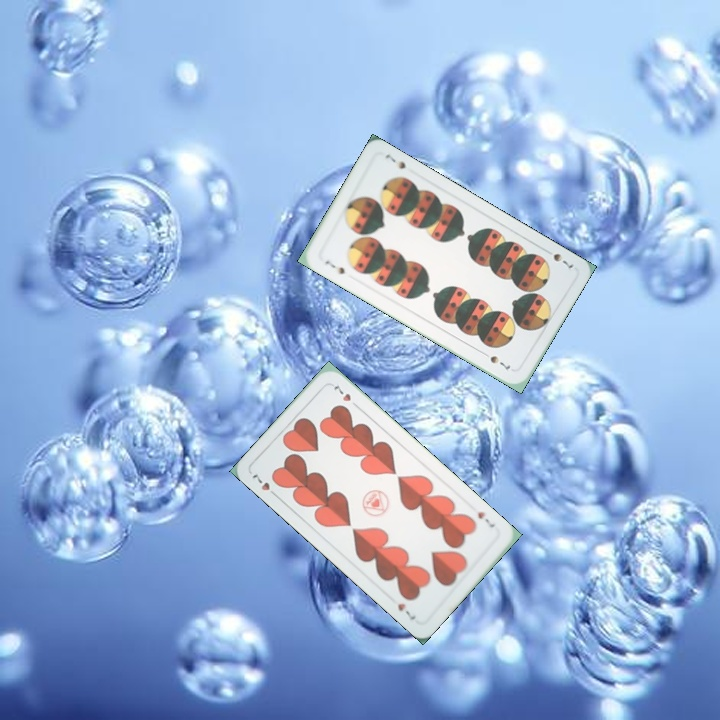H7: (248, 469, 281, 500), (473, 507, 497, 531)
S7: (540, 245, 576, 271), (321, 256, 349, 278)
